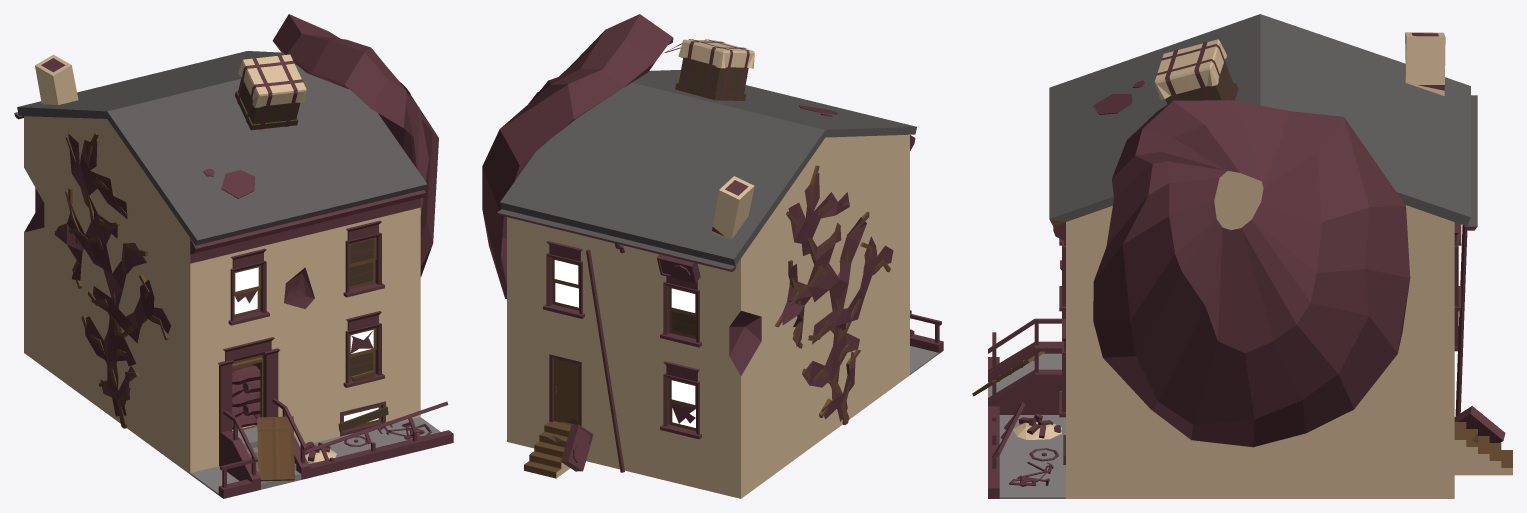
Rendered from apocalypse-building-house-block-big-apocalypse.glb.
3 renders of one model, left to right at view 1: azimuth 30°, elevation 25°; view 2: azimuth 150°, elevation 25°; view 3: azimuth 270°, elevation 25°, orthographic. The views are drawn at different scales.
Visible parts, largest first — view 1: building-house-block-big-apocalypse-main, building-house-block-big-apocalypse-props-a, building-house-block-big-apocalypse-props-b; view 2: building-house-block-big-apocalypse-main, building-house-block-big-apocalypse-props-a, building-house-block-big-apocalypse-props-b; view 3: building-house-block-big-apocalypse-main, building-house-block-big-apocalypse-props-a, building-house-block-big-apocalypse-props-b.
Part boxes in pixels (x1=…): building-house-block-big-apocalypse-main: x1=14, y1=51, x2=453, y2=498; building-house-block-big-apocalypse-props-a: x1=235, y1=14, x2=438, y2=276; building-house-block-big-apocalypse-props-b: x1=54, y1=132, x2=431, y2=462; building-house-block-big-apocalypse-main: x1=497, y1=70, x2=943, y2=498; building-house-block-big-apocalypse-props-a: x1=482, y1=14, x2=754, y2=298; building-house-block-big-apocalypse-props-b: x1=774, y1=165, x2=893, y2=424; building-house-block-big-apocalypse-main: x1=972, y1=14, x2=1512, y2=498; building-house-block-big-apocalypse-props-a: x1=1093, y1=39, x2=1410, y2=447; building-house-block-big-apocalypse-props-b: x1=1009, y1=413, x2=1061, y2=486.
Bounding box in the file's own units: 11.03 × 11.27 × 13.91.
